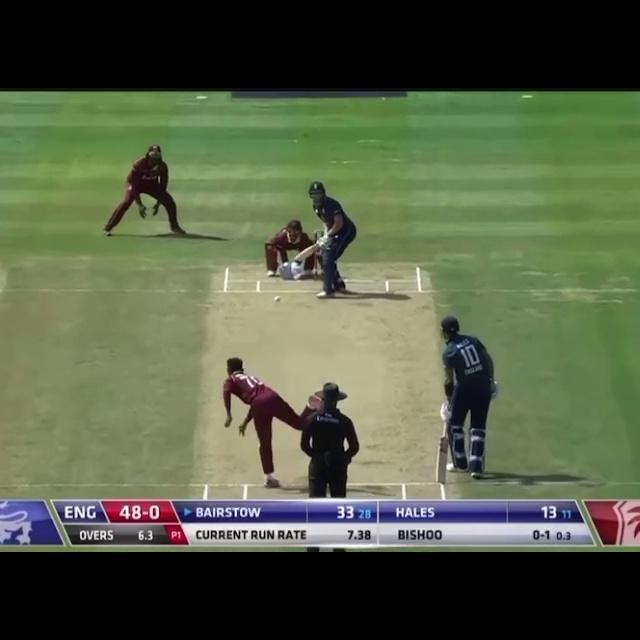umpire: (294, 380, 370, 502)
